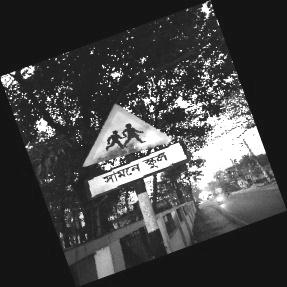School-in-front: (80, 102, 184, 199)
